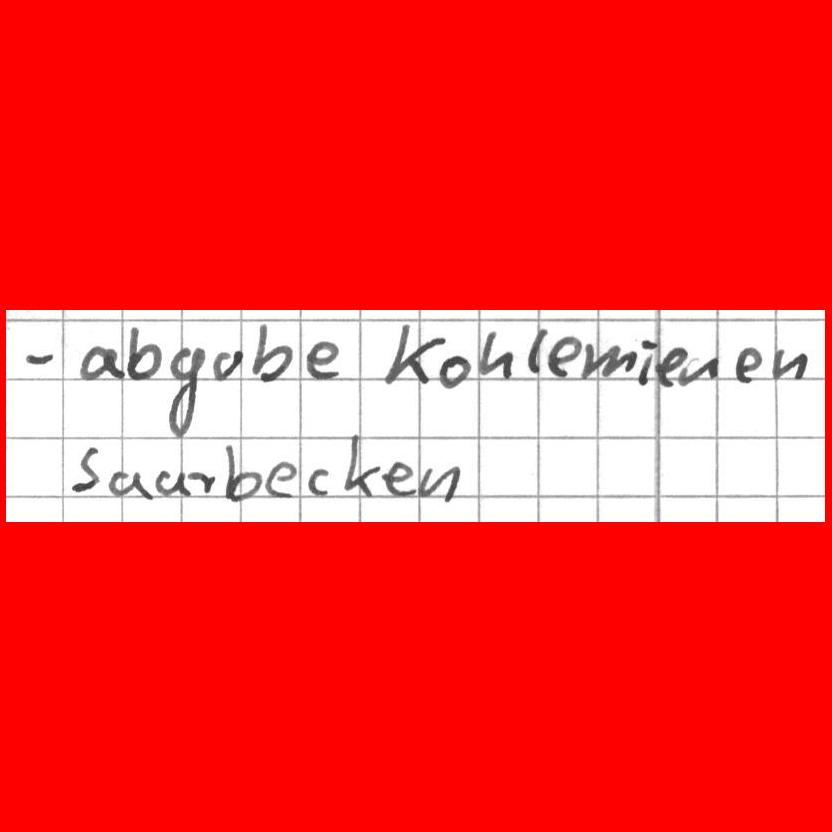Char: (162, 338, 205, 434), (382, 324, 441, 387), (252, 320, 294, 381), (341, 435, 380, 497), (223, 441, 261, 502), (477, 327, 519, 379), (124, 325, 162, 377), (584, 343, 635, 381), (416, 462, 460, 504), (78, 343, 124, 383), (303, 338, 343, 382), (68, 445, 101, 495), (770, 344, 810, 383), (548, 335, 580, 381), (109, 466, 150, 501), (655, 341, 685, 388), (380, 458, 416, 497), (263, 460, 299, 498), (733, 344, 763, 384), (681, 353, 716, 386), (212, 346, 244, 382), (525, 328, 548, 378), (636, 336, 656, 388), (440, 354, 469, 389), (154, 467, 185, 499), (306, 465, 329, 496), (190, 471, 217, 495), (22, 348, 56, 367)
